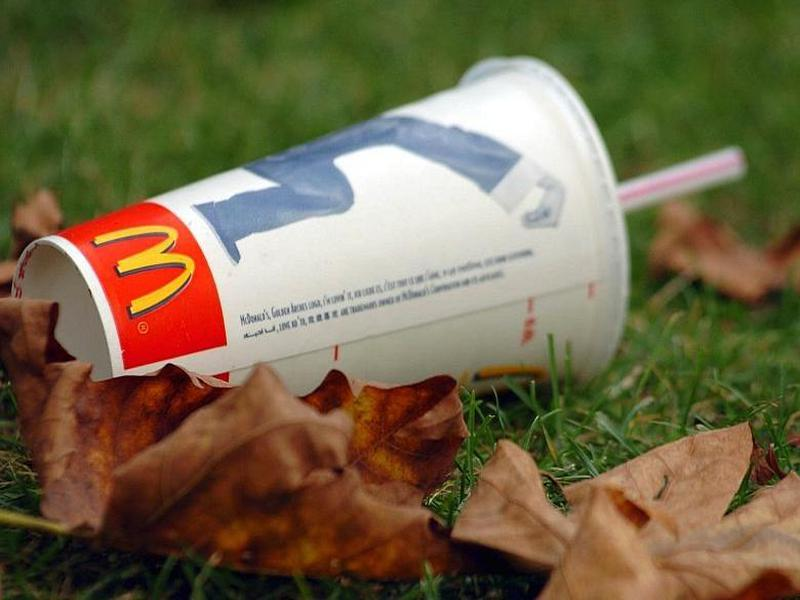cup: (7, 44, 632, 407)
leaf: (1, 296, 467, 585), (448, 422, 800, 600)
